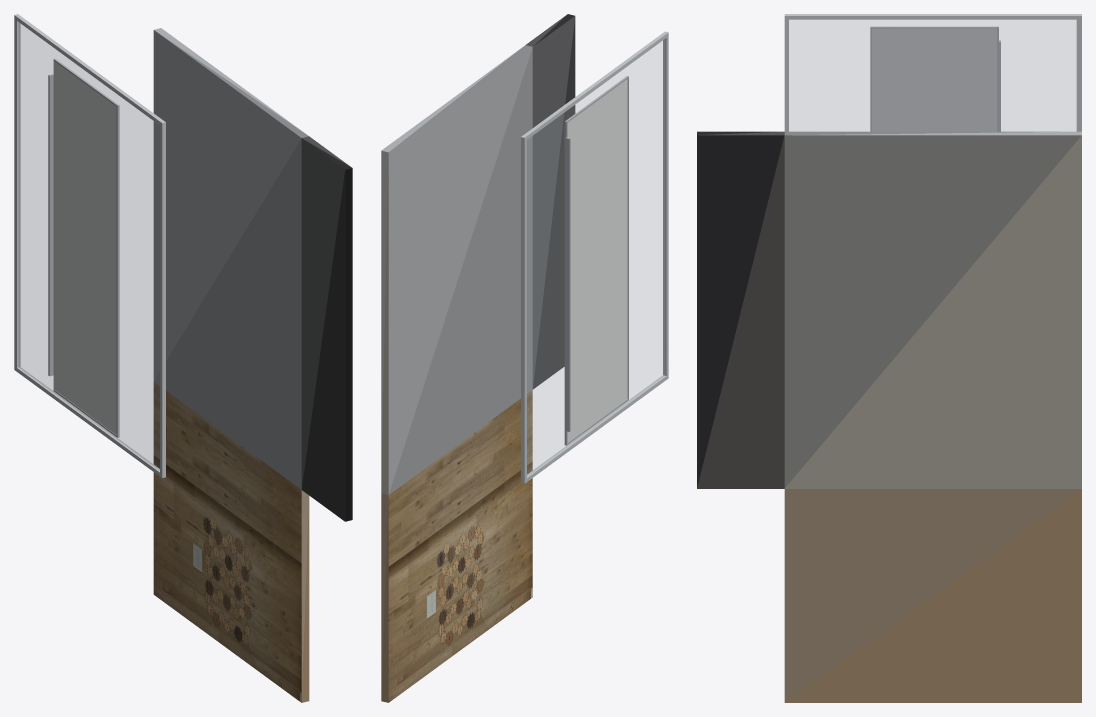
File: room_end_wall_l.obj
The picture shows the model from 3 angles, left to right: view 1: azimuth 30°, elevation 25°; view 2: azimuth 150°, elevation 25°; view 3: azimuth 270°, elevation 25°; orthographic projection. The views are drawn at different scales.
Parts seen in each view (by area): view 1: paint_matte_texture_0, paint_matte_11, paint_matte_21, paint_matte_16, paint_matte_27, paint_matte_2, paint_matte_5, paint_matte_23, paint_matte_15, paint_matte_0, paint_matte_10, paint_matte_13 (+2 smaller); view 2: paint_matte_texture_0, paint_matte_21, paint_matte_16, paint_matte_11, paint_matte_27, paint_matte_5, paint_matte_23, paint_matte_2, paint_matte_15, paint_matte_18, paint_matte_20, paint_matte_10 (+3 smaller); view 3: paint_matte_7, paint_matte_12, paint_matte_21, paint_matte_8, paint_matte_10, paint_matte_1, paint_matte_4, paint_matte_24, paint_matte_23, paint_matte_14, paint_matte_15, paint_matte_6.
Boxes of the visible parts, x1,y1,x2,y2 form: paint_matte_texture_0: (153,382,301,702); paint_matte_11: (154,138,301,489); paint_matte_21: (18,23,159,470); paint_matte_16: (153,30,301,380); paint_matte_27: (55,62,116,434); paint_matte_2: (301,170,345,521); paint_matte_5: (301,138,344,488); paint_matte_23: (14,14,165,478); paint_matte_15: (48,58,119,437); paint_matte_0: (345,168,352,521); paint_matte_10: (301,495,309,702); paint_matte_13: (301,490,308,698); paint_matte_texture_0: (388,390,532,702); paint_matte_21: (527,39,664,475); paint_matte_16: (388,47,532,494); paint_matte_11: (389,48,532,494); paint_matte_27: (567,79,627,442); paint_matte_5: (532,16,575,389); paint_matte_23: (521,31,668,483); paint_matte_2: (533,17,575,389); paint_matte_15: (564,76,628,445); paint_matte_18: (381,157,388,495); paint_matte_20: (381,150,388,481); paint_matte_10: (381,498,388,702); paint_matte_7: (784,135,1081,488); paint_matte_12: (785,135,1081,488); paint_matte_21: (789,20,1076,131); paint_matte_8: (784,489,1081,702); paint_matte_10: (785,489,1081,702); paint_matte_1: (697,131,784,487); paint_matte_4: (697,135,784,488); paint_matte_24: (872,29,996,131); paint_matte_23: (784,14,1081,131); paint_matte_14: (792,131,1081,135); paint_matte_15: (870,26,1000,131); paint_matte_6: (784,131,1059,135).
Size of the model in its own units: 2.03 by 7.78 by 4.4.
29 materials, 1 textured.
